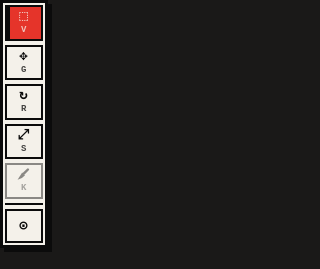
Test: ToolRail › opens the shape picker from the select tool
Click the button named "Select" at (24, 23), box [5,5,43,41]
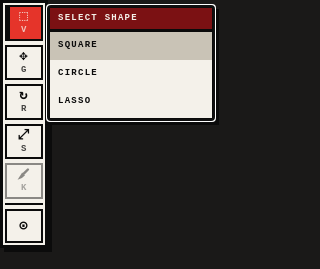
Result: the menu item "SQUARE" is shown at [50,32,212,60]
Result: the menu item "CIRCLE" is shown at [50,60,212,88]
Result: the menu item "LASSO" is shown at [50,88,212,116]
